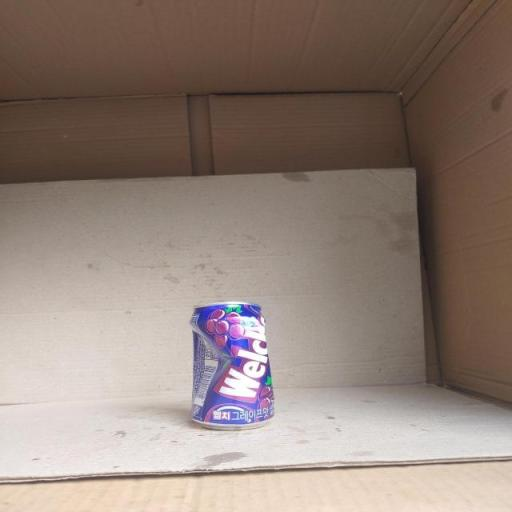metal: (156, 276, 310, 442)
